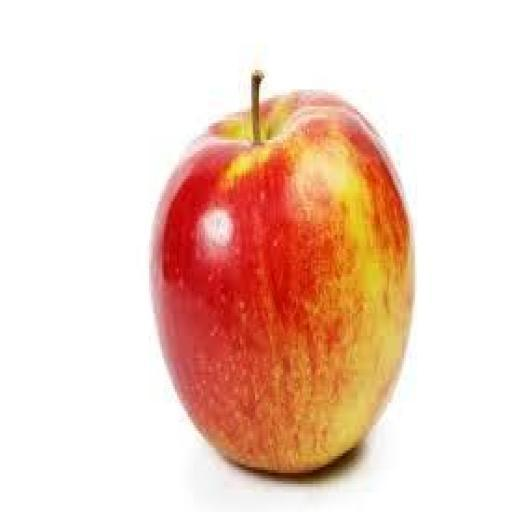apple: (151, 73, 413, 472)
